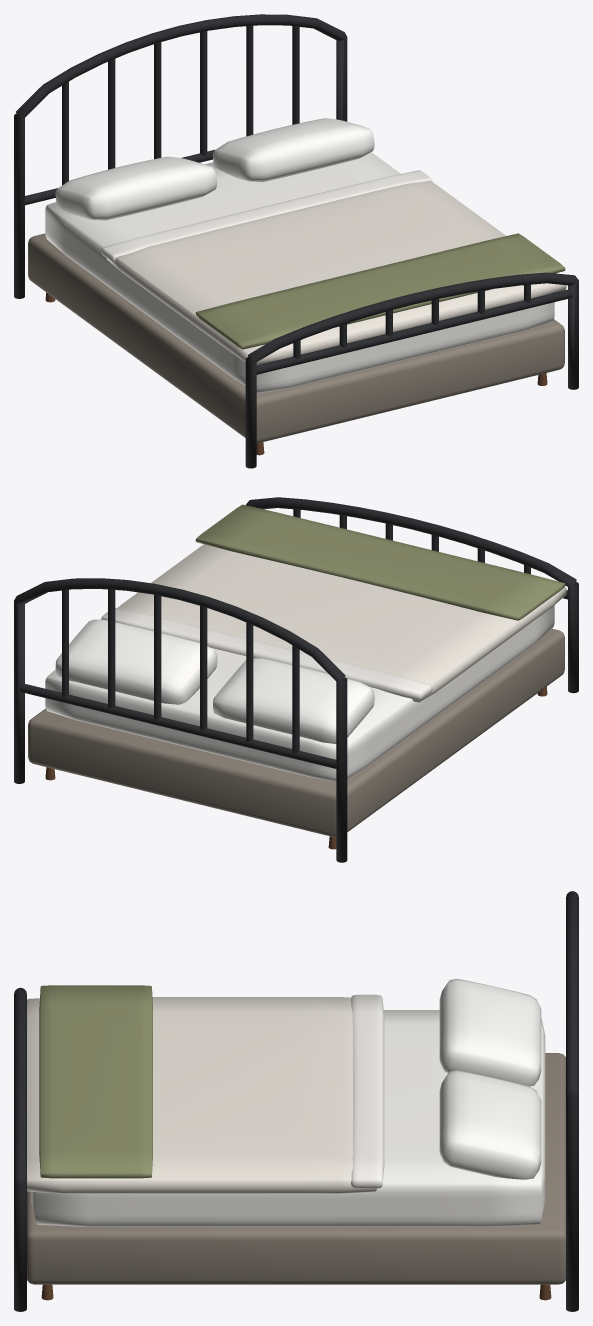
File: bed_metal.glb
3 views of the same model, one above another, from view 1: azimuth 30°, elevation 25°; view 2: azimuth 150°, elevation 25°; view 3: azimuth 270°, elevation 25° (orthographic). The views are drawn at different scales.
Parts seen in each view (by area): view 1: soft.001, box, soft, soft.003, tube, soft.004, soft.005, tube.001, soft.002, cyl.007, cyl.004, cyl.003 (+4 smaller); view 2: box, soft.001, soft, soft.003, tube, soft.004, soft.005, tube.001, soft.002, cyl, cyl.004, cyl.003 (+4 smaller); view 3: soft.001, box, soft, soft.003, soft.005, soft.004, soft.002, tube, tube.001.
Boxes of the visible parts, bbox=[...] form: soft.001: bbox=[106, 180, 566, 365]; box: bbox=[28, 233, 564, 443]; soft: bbox=[45, 152, 554, 393]; soft.003: bbox=[195, 233, 565, 349]; tube: bbox=[14, 14, 347, 298]; soft.004: bbox=[55, 156, 217, 220]; soft.005: bbox=[213, 118, 374, 182]; tube.001: bbox=[245, 272, 578, 468]; soft.002: bbox=[101, 170, 432, 262]; cyl.007: bbox=[256, 289, 573, 374]; cyl.004: bbox=[200, 31, 207, 155]; cyl.003: bbox=[154, 42, 161, 158]; box: bbox=[28, 629, 564, 837]; soft.001: bbox=[117, 544, 566, 702]; soft: bbox=[45, 605, 554, 781]; soft.003: bbox=[195, 504, 565, 620]; tube: bbox=[14, 578, 347, 862]; soft.004: bbox=[213, 658, 374, 743]; soft.005: bbox=[55, 619, 217, 704]; tube.001: bbox=[246, 497, 578, 693]; soft.002: bbox=[101, 608, 432, 700]; cyl: bbox=[19, 684, 336, 768]; cyl.004: bbox=[154, 594, 161, 719]; cyl.003: bbox=[200, 605, 207, 730]; soft.001: bbox=[27, 997, 376, 1193]; box: bbox=[27, 1053, 565, 1284]; soft: bbox=[31, 1010, 545, 1226]; soft.003: bbox=[39, 985, 152, 1178]; soft.005: bbox=[439, 1070, 541, 1179]; soft.004: bbox=[439, 978, 541, 1086]; soft.002: bbox=[351, 994, 384, 1188]; tube: bbox=[566, 891, 578, 1311]; tube.001: bbox=[14, 987, 26, 1311].
Bounding box in the file's own units: 169 × 112 × 209.
